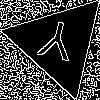Y: (34, 18, 78, 71)
